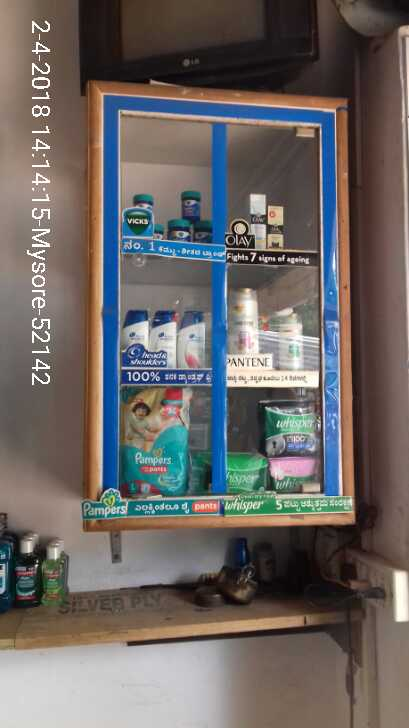vicks: (126, 176, 214, 245)
